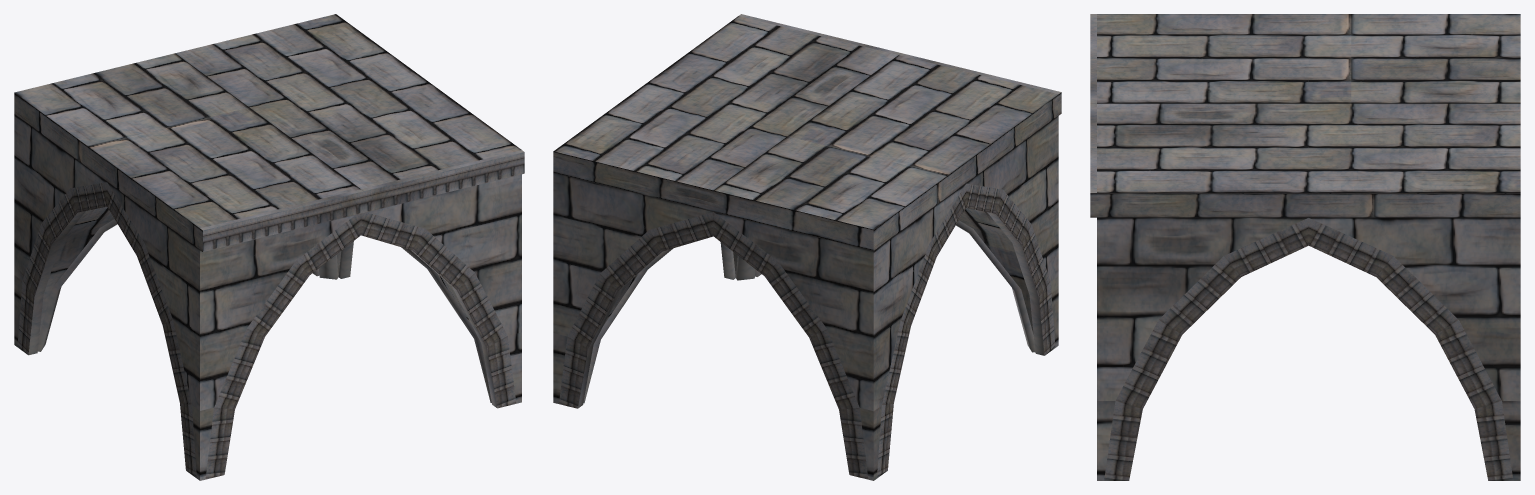
The model's file is vault_small_front_01.glb.
The picture shows the model from 3 angles, left to right: view 1: azimuth 30°, elevation 25°; view 2: azimuth 150°, elevation 25°; view 3: azimuth 270°, elevation 25°; orthographic projection. The views are drawn at different scales.
Parts seen in each view (by area): view 1: vault_small_front_01; view 2: vault_small_front_01; view 3: vault_small_front_01.
Boxes of the visible parts, x1,y1,x2,y2 form: vault_small_front_01: (14,14,524,480); vault_small_front_01: (553,14,1061,480); vault_small_front_01: (1090,14,1520,480).
Size of the model in its own units: 8 by 6 by 8.12.
Materials: 1 (1 with a texture image).
